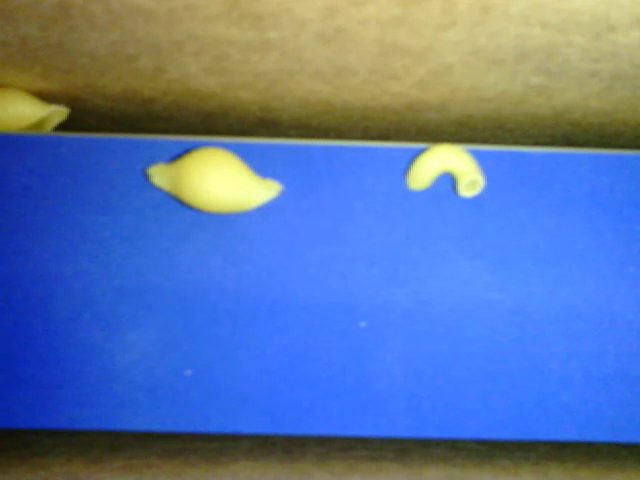elbow: (408, 135, 490, 206)
shell: (142, 144, 283, 214), (2, 86, 79, 135)
